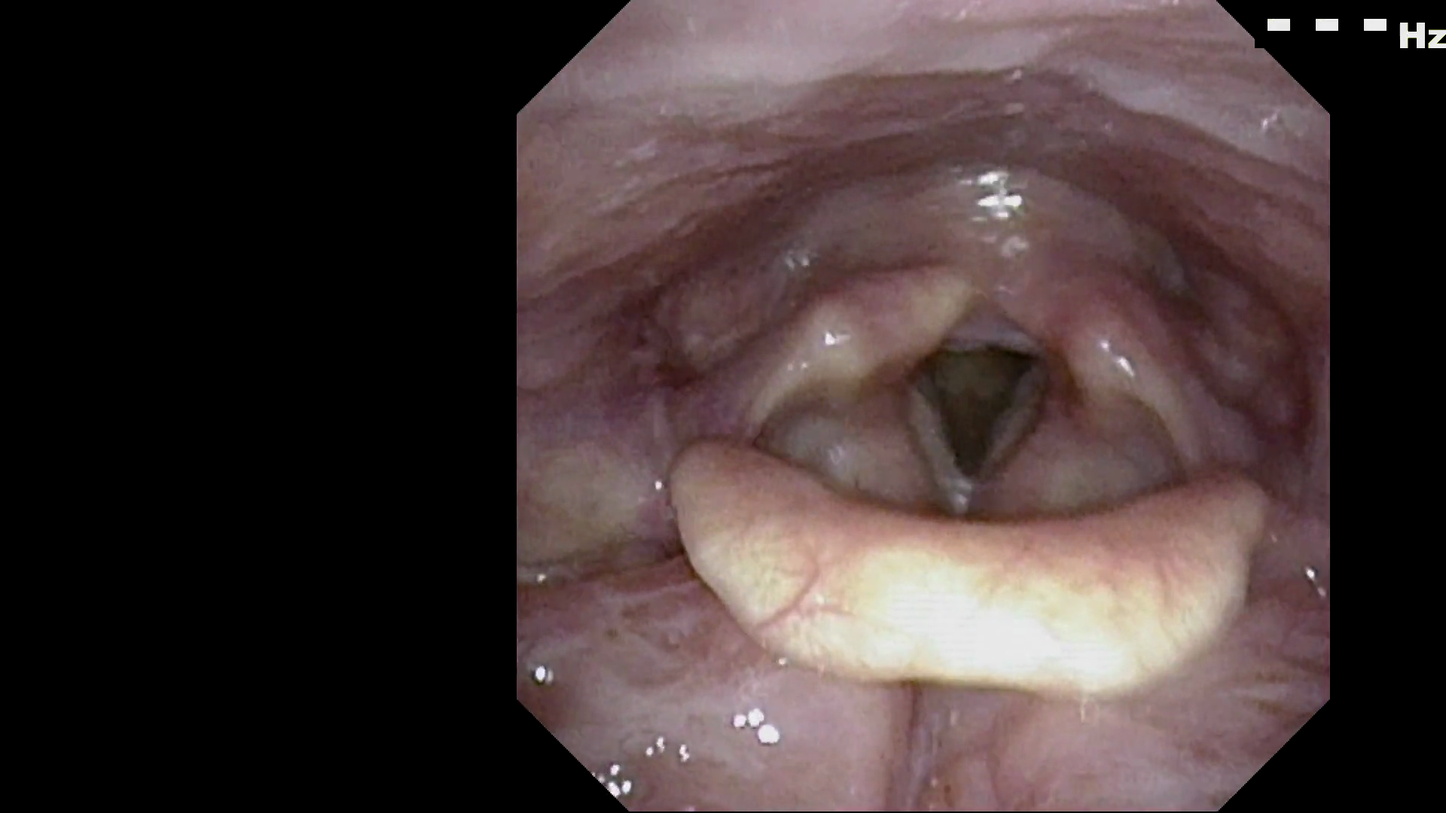epiglottis: (659, 417, 1276, 692)
trachea: (892, 316, 1058, 489)
